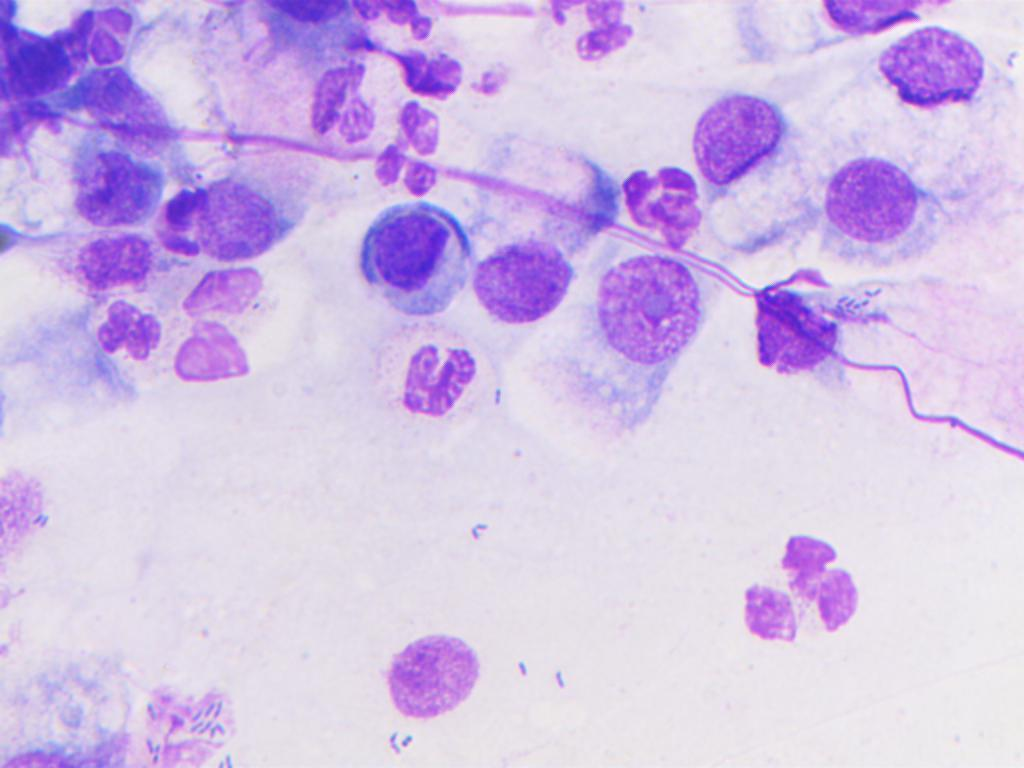epithelial: (560, 248, 707, 438), (471, 120, 596, 323), (358, 614, 499, 738), (810, 154, 951, 261)
goblet_cell: (685, 92, 815, 249), (186, 125, 330, 265), (863, 24, 1001, 139)
lymphocyte: (349, 199, 473, 319)
neutrophil: (719, 527, 873, 649), (611, 143, 720, 268), (46, 141, 175, 237), (386, 325, 490, 421), (49, 222, 172, 303), (364, 92, 457, 198), (83, 295, 186, 384), (297, 54, 385, 158), (70, 1, 140, 72)
